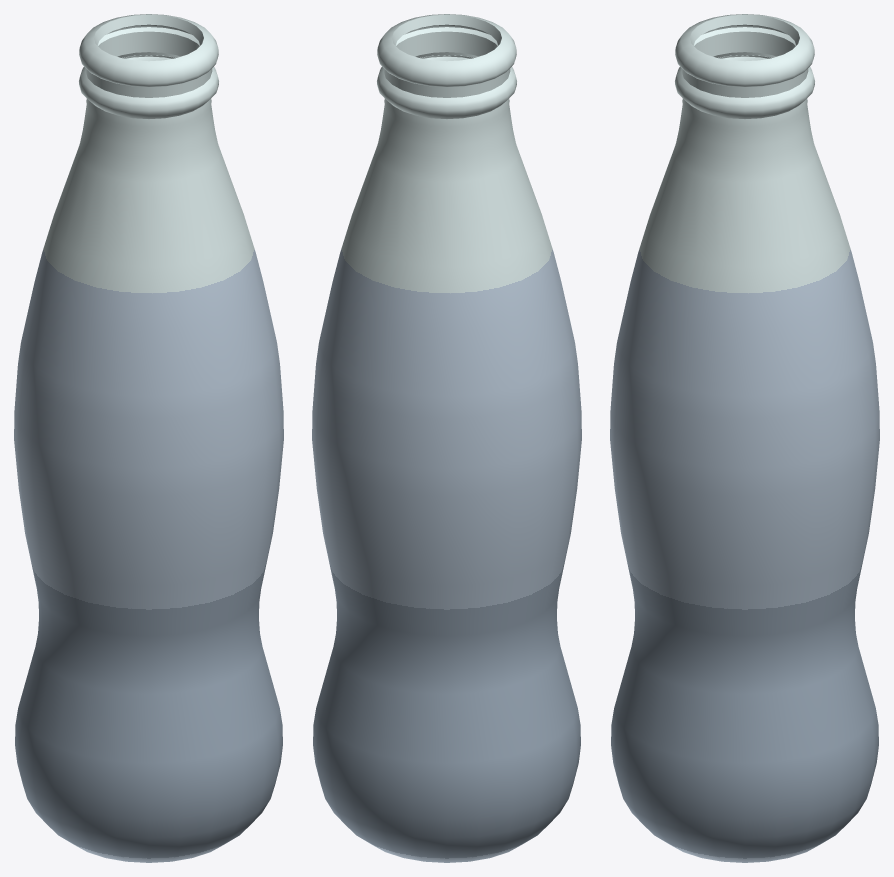
File: botellaVidrio.fbx
The picture shows the model from 3 angles, left to right: view 1: azimuth 30°, elevation 25°; view 2: azimuth 150°, elevation 25°; view 3: azimuth 270°, elevation 25°; orthographic projection.
Visible parts, largest first — view 1: botellaVidrio; view 2: botellaVidrio; view 3: botellaVidrio.
Part boxes in pixels (box(x1,y1,x2,y2)): botellaVidrio: box(14, 14, 283, 862); botellaVidrio: box(312, 14, 581, 862); botellaVidrio: box(610, 14, 879, 862).
Bounding box in the file's own units: 17.83 × 57.72 × 17.83.
